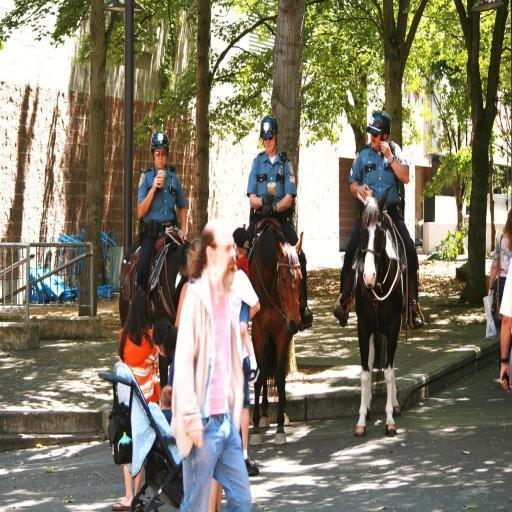Horse: (352, 188, 408, 436), (246, 222, 305, 446), (118, 242, 199, 394)
